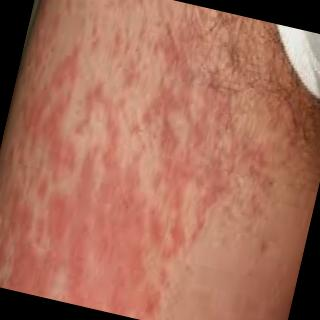urticaria: (47, 20, 264, 289)
